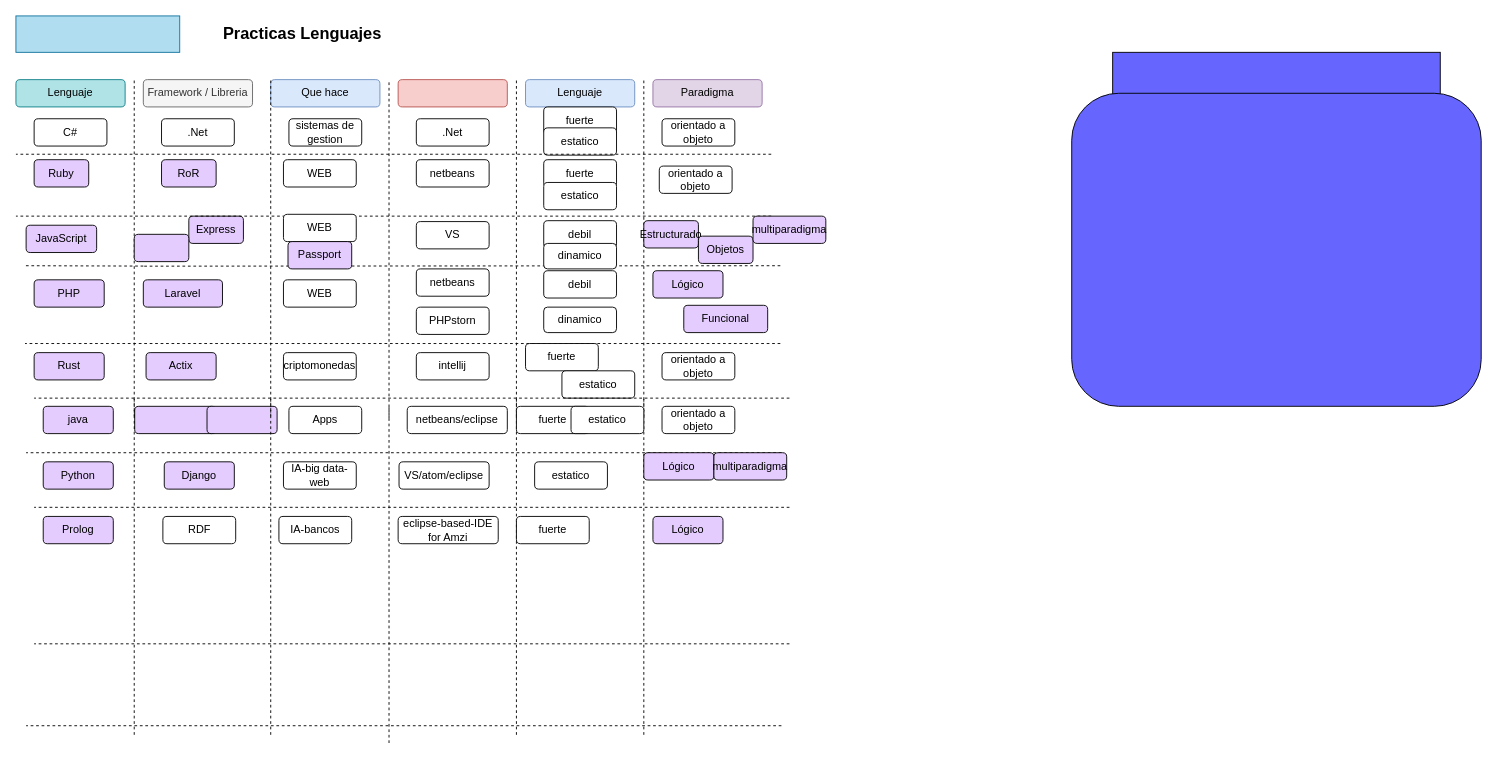
Some shapes in this 1498 by 760 pixel diagram are drawn without their labels. Here are the shapes that lost their labels. From the top down, the centre of each, then its label:
At (97,33): "Actividad N° 2:".
At (452,93): "IDE".
At (161,247): "Node".
At (175,419): "Hibernate".
At (241,419): "Spring".
